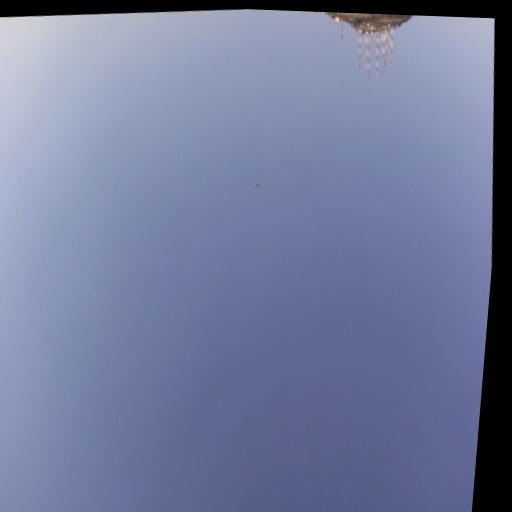drones: (252, 176, 264, 192)
